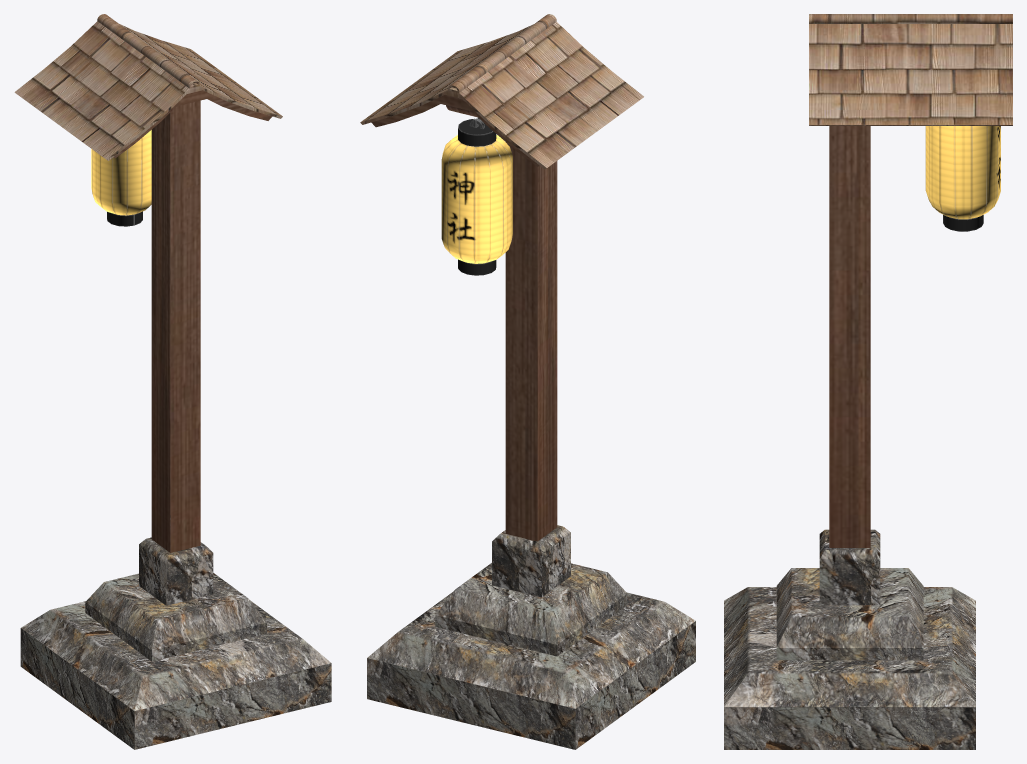
Rendered from NNJ0310003.fbx.
3 views of the same model, side by side, from view 1: azimuth 30°, elevation 25°; view 2: azimuth 150°, elevation 25°; view 3: azimuth 270°, elevation 25° (orthographic). The views are drawn at different scales.
Visible parts, largest first — view 1: smNNJ0310003; view 2: smNNJ0310003; view 3: smNNJ0310003.
Boxes of the visible parts, bbox=[...] form: smNNJ0310003: bbox=[14, 14, 331, 749]; smNNJ0310003: bbox=[360, 14, 695, 749]; smNNJ0310003: bbox=[724, 14, 1012, 749].
Bounding box in the file's own units: 99.22 × 296 × 114.
1 material, 1 textured.
